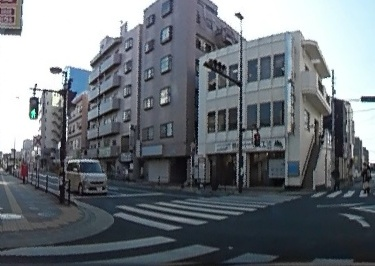person: (358, 161, 371, 192), (330, 162, 341, 190)
